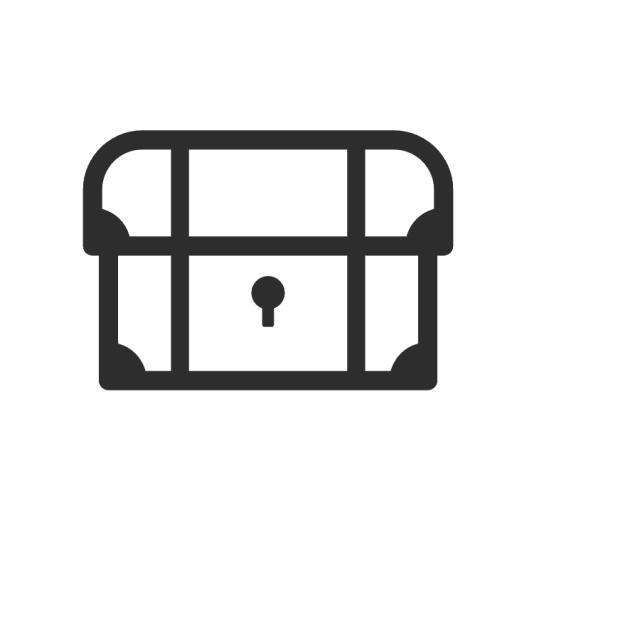treasure_box: (79, 127, 459, 400)
